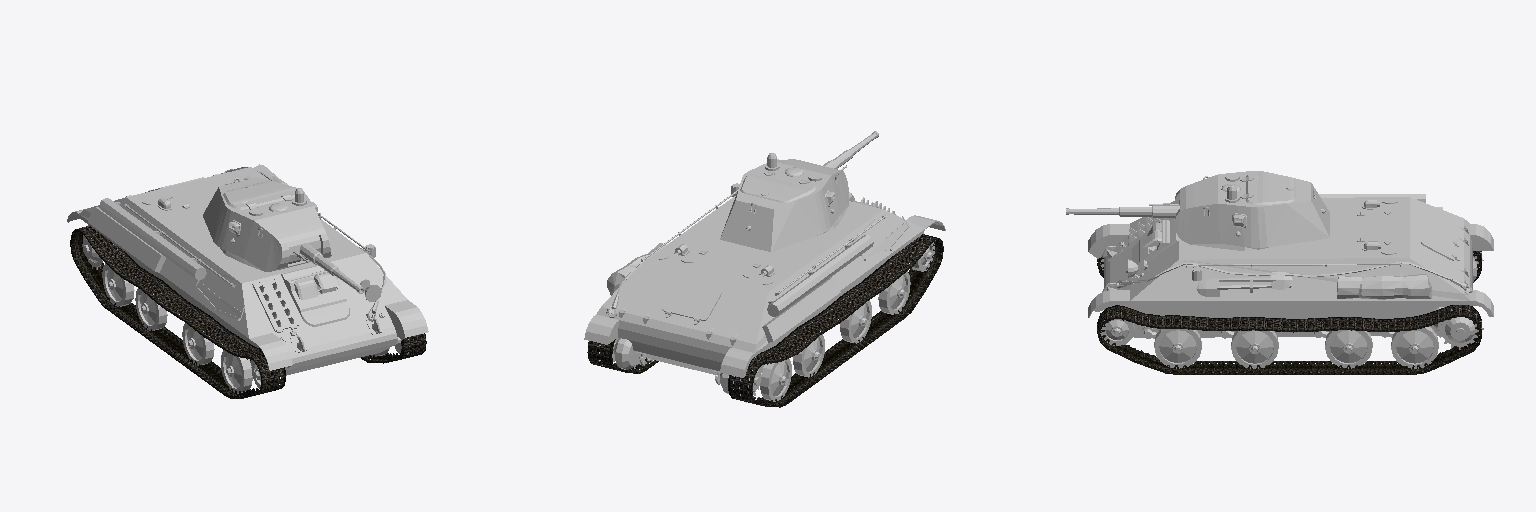
The picture shows the model from 3 angles: view 1: azimuth 30°, elevation 25°; view 2: azimuth 150°, elevation 25°; view 3: azimuth 270°, elevation 25°; orthographic projection.
Visible parts, largest first — view 1: vertices, track_RShape, chassis_RShape, gun_01Shape, track_LShape; view 2: vertices, track_RShape, chassis_RShape, track_LShape; view 3: vertices, track_LShape, chassis_LShape, gun_01Shape.
Part boxes in pixels (bbox=[...]): vertices: bbox=[67, 164, 428, 375]; track_RShape: bbox=[70, 226, 285, 398]; chassis_RShape: bbox=[82, 225, 265, 393]; gun_01Shape: bbox=[287, 235, 364, 293]; track_LShape: bbox=[361, 333, 426, 363]; vertices: bbox=[584, 153, 945, 393]; track_RShape: bbox=[728, 234, 943, 407]; chassis_RShape: bbox=[739, 238, 934, 402]; track_LShape: bbox=[587, 339, 658, 373]; vertices: bbox=[1088, 171, 1493, 337]; track_LShape: bbox=[1097, 305, 1481, 374]; chassis_LShape: bbox=[1100, 308, 1483, 368]; gun_01Shape: bbox=[1066, 200, 1179, 217].
Size of the model in its own units: 2.17 by 1.9 by 4.6.
Materials: 2 (1 with a texture image).